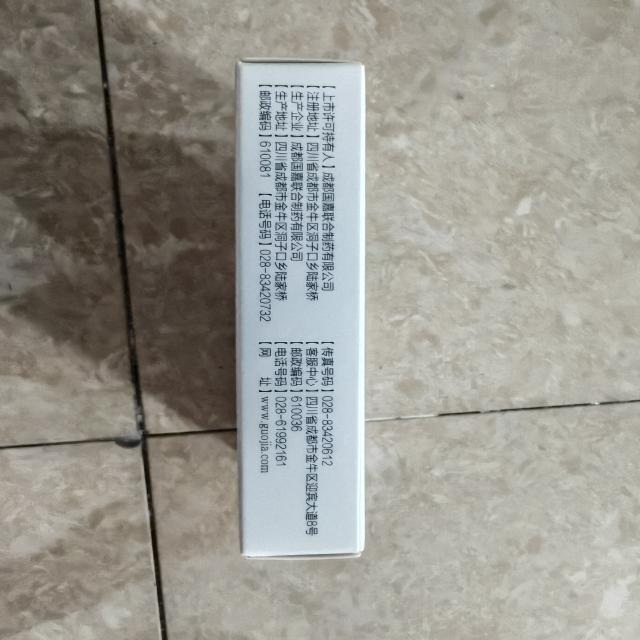box: (226, 48, 377, 570)
